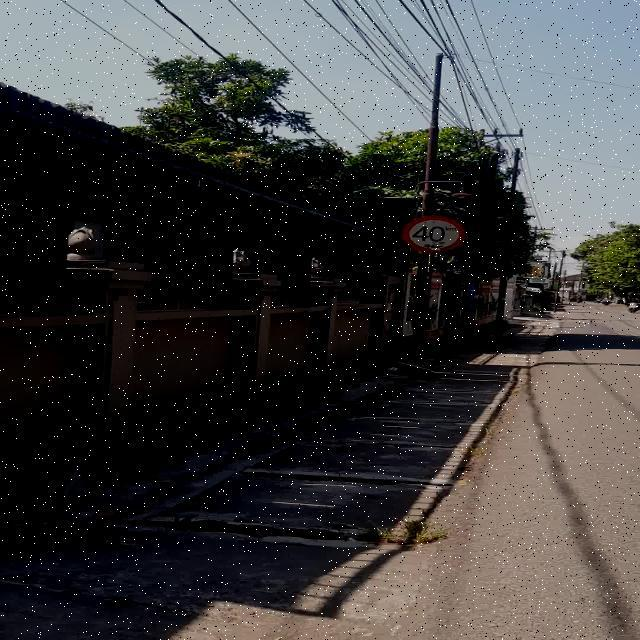Kecepatan Maks. 40 km: (402, 216, 466, 253)
